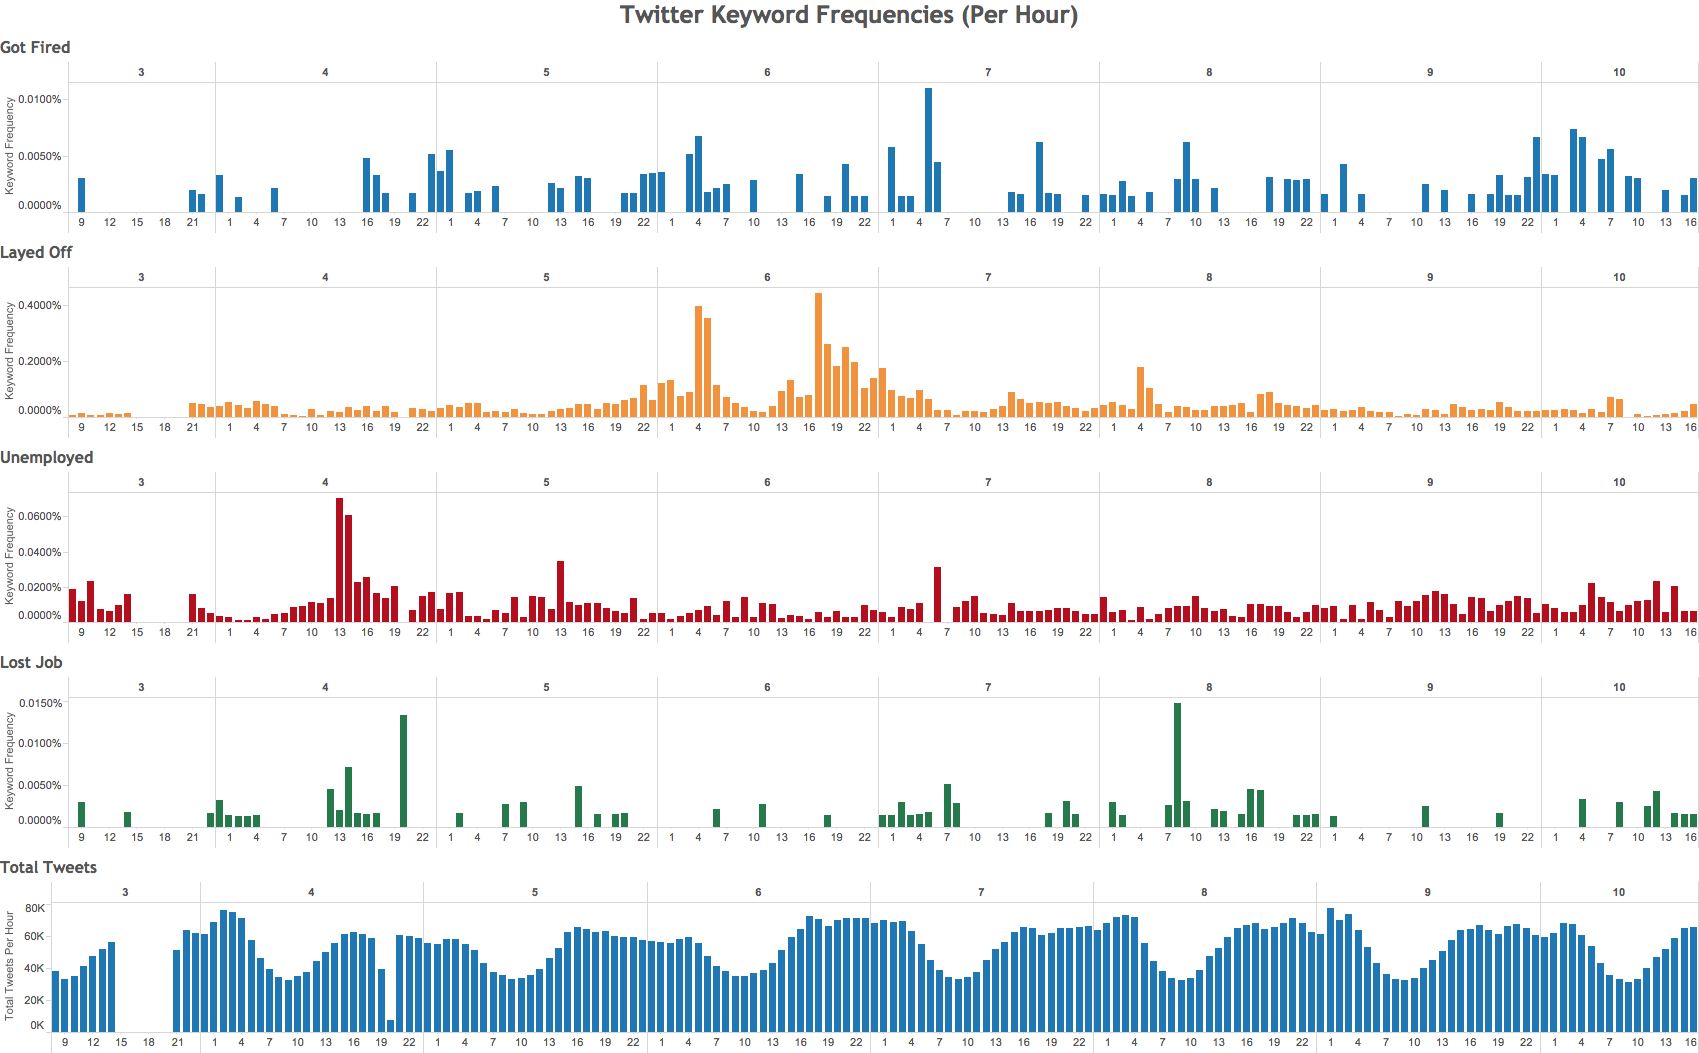

Layout of this report page (visuals, bound fields, positions):
{"tool":"tableau","page":{"name":"Keywords","canvas":[1000,1000],"units":"permille","ordinal":1},"visuals":[{"type":"title","box":[0,0,1000,37.4]},{"type":"worksheet","title":"Got Fired","mark":"Bar","rows":["Calculation_4251214144344328"],"cols":["timestamp","timestamp"],"box":[0,37.4,1000,191.8]},{"type":"worksheet","title":"Layed Off","mark":"Bar","rows":["Calculation_4251214144344328"],"cols":["timestamp","timestamp"],"box":[0,229.2,1000,191.8]},{"type":"worksheet","title":"Unemployed","mark":"Bar","rows":["Calculation_4251214144344328"],"cols":["timestamp","timestamp"],"box":[0,420.9,1000,191.8]},{"type":"worksheet","title":"Lost Job","mark":"Bar","rows":["Calculation_4251214144344328"],"cols":["timestamp","timestamp"],"box":[0,612.7,1000,191.8]},{"type":"worksheet","title":"Total Tweets","mark":"Bar","rows":["Calculation_2341214143610427"],"cols":["timestamp","timestamp"],"box":[0,804.5,1000,195.5]}]}

Visuals, with their boxes on the dashboard's canvas, which has no fixed pixel size, in thousandths of its width and height (x1, y1, x2, y2). These are canvas units, not pixel positions in the 1699x1053 screenshot, which may show the page scaled, cropped or inside an application window:
title: 0/0/1000/37
"Got Fired" worksheet (Bar marks): 0/37/1000/229
"Layed Off" worksheet (Bar marks): 0/229/1000/421
"Unemployed" worksheet (Bar marks): 0/421/1000/613
"Lost Job" worksheet (Bar marks): 0/613/1000/804
"Total Tweets" worksheet (Bar marks): 0/804/1000/1000
